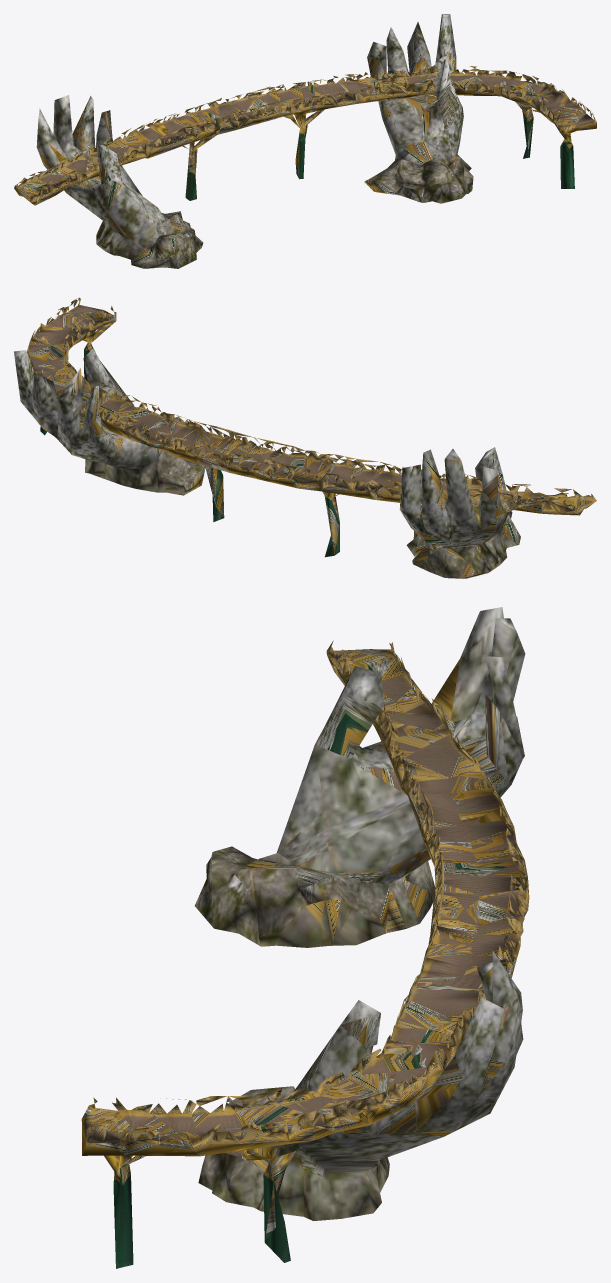
File: cau-vang.glb
3 views of the same model, one above another, from view 1: azimuth 30°, elevation 25°; view 2: azimuth 150°, elevation 25°; view 3: azimuth 270°, elevation 25° (orthographic). The views are drawn at different scales.
Bounding box in the file's own units: 0.9982 × 0.2405 × 0.3806.
1 material, 1 textured.
